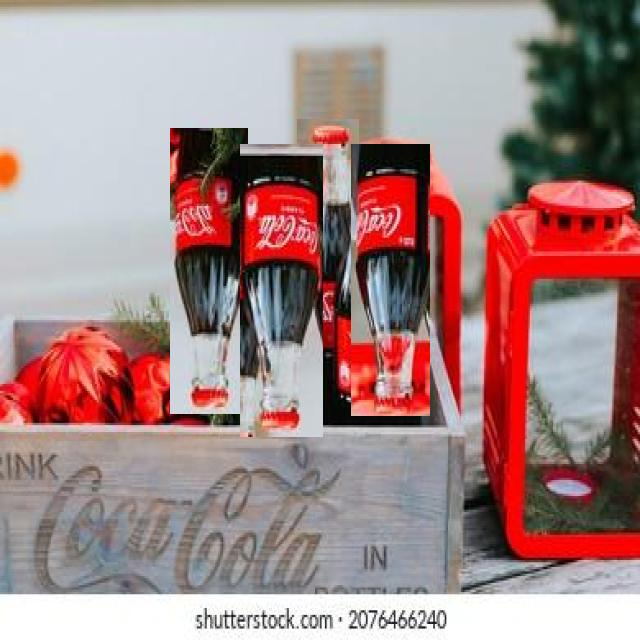coca-cola: (240, 144, 323, 437), (170, 128, 248, 414), (351, 144, 430, 416), (297, 119, 359, 407)
